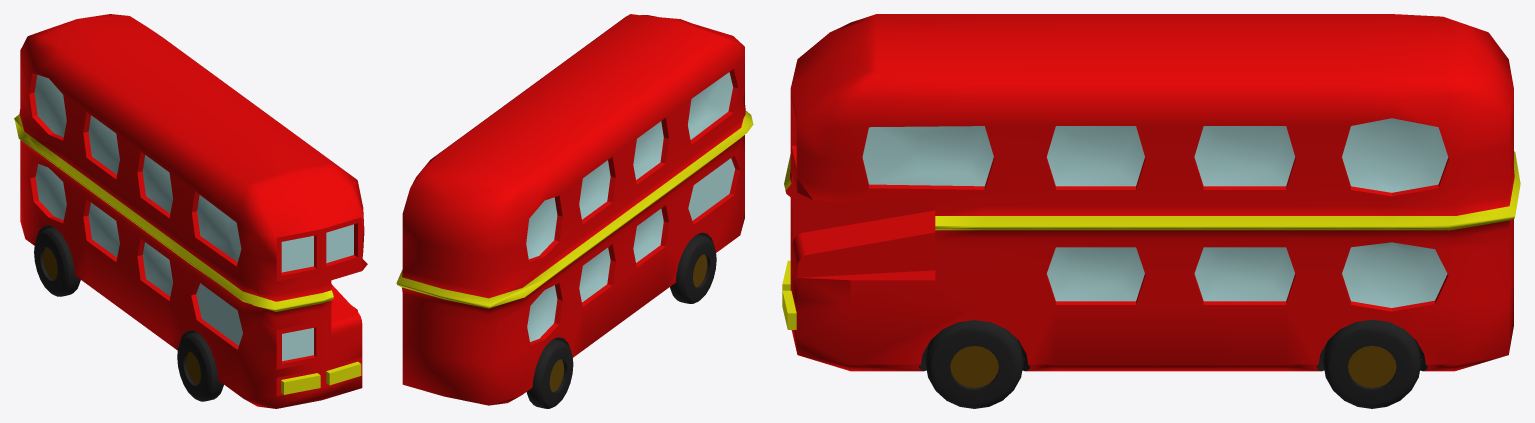
File: bus.fbx
The picture shows the model from 3 angles, left to right: view 1: azimuth 30°, elevation 25°; view 2: azimuth 150°, elevation 25°; view 3: azimuth 270°, elevation 25°; orthographic projection. The views are drawn at different scales.
Parts seen in each view (by area): view 1: pCube6, pCylinder8, pCylinder6; view 2: pCube6, pCylinder8, pCylinder6; view 3: pCube6, pCylinder7, pCylinder5.
Boxes of the visible parts, box(x1,y1,x2,y2) form: pCube6: box(14, 14, 367, 408); pCylinder8: box(34, 227, 80, 296); pCylinder6: box(177, 332, 223, 401); pCube6: box(396, 14, 753, 405); pCylinder8: box(526, 339, 573, 408); pCylinder6: box(670, 234, 716, 303); pCube6: box(782, 14, 1520, 371); pCylinder7: box(1323, 319, 1421, 408); pCylinder5: box(925, 320, 1023, 408).
Size of the model in its own units: 1.98 by 3.63 by 7.25.
